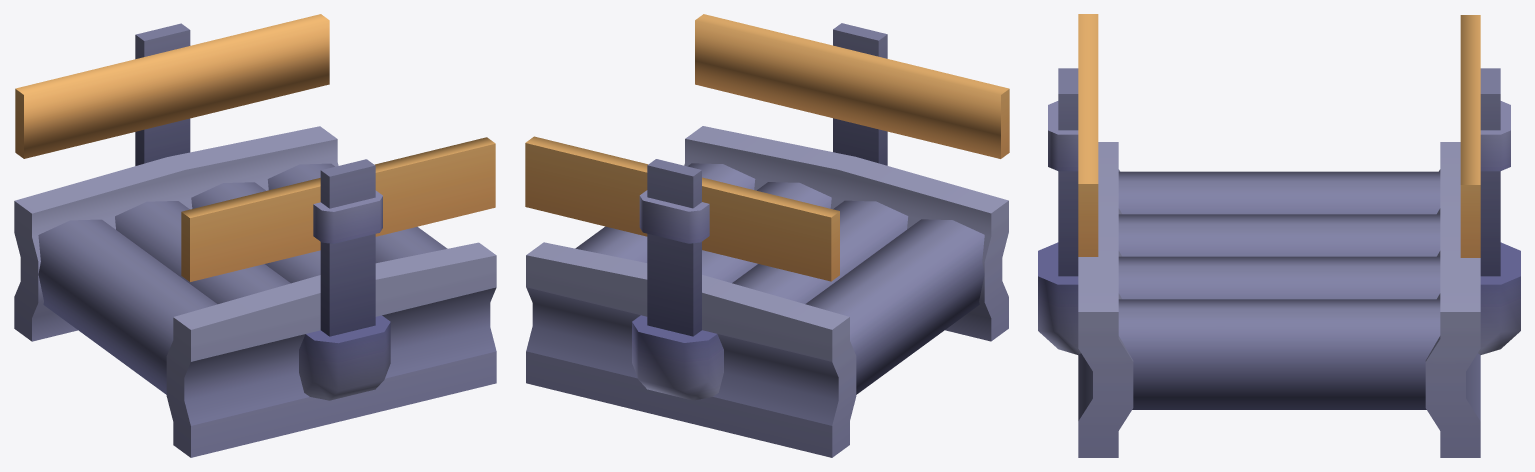
File: kenney-factory-conveyor-bars-fence.glb
3 renders of one model, left to right at view 1: azimuth 30°, elevation 25°; view 2: azimuth 150°, elevation 25°; view 3: azimuth 270°, elevation 25°, orthographic. The views are drawn at different scales.
Parts seen in each view (by area): view 1: conveyor-bars-fence; view 2: conveyor-bars-fence; view 3: conveyor-bars-fence.
Boxes of the visible parts, x1,y1,x2,y2 form: conveyor-bars-fence: (14,14,496,457); conveyor-bars-fence: (525,14,1009,457); conveyor-bars-fence: (1038,14,1520,457).
Size of the model in its own units: 1.01 by 0.8 by 1.2.
Materials: 1 (1 with a texture image).
